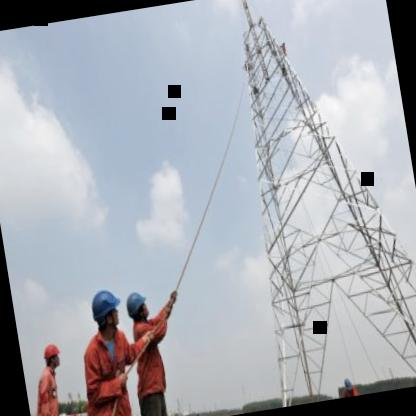helmet: (86, 282, 126, 338), (121, 286, 152, 325), (40, 339, 67, 374)
